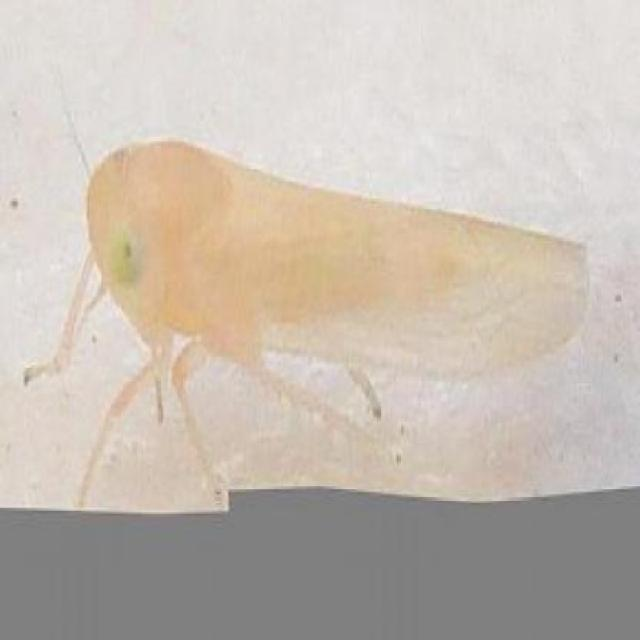green-leafhopper: (81, 140, 593, 400)
